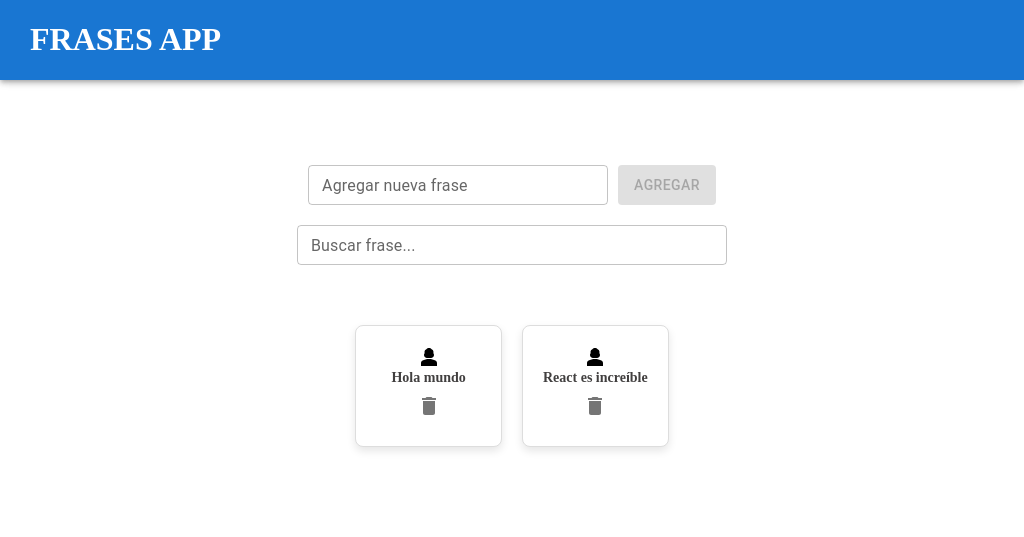
Test: Phrases Component › debería mostrar un mensaje de error si la frase tiene menos de dos palabras
In the field labelled "Agregar nueva frase": (458, 185) [308,165,608,205], type "Hola"
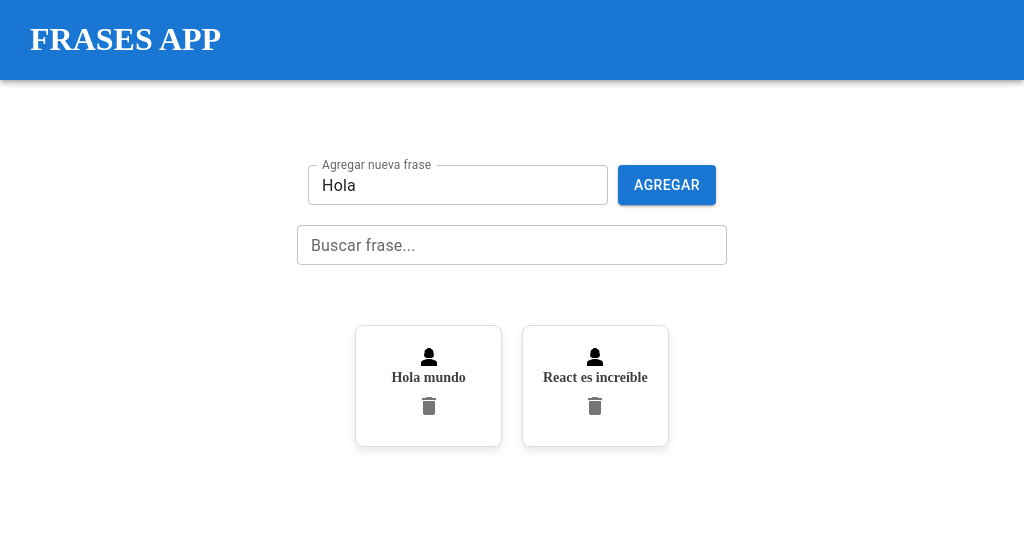
Click the button "Agregar": (667, 185) [618,165,716,205]
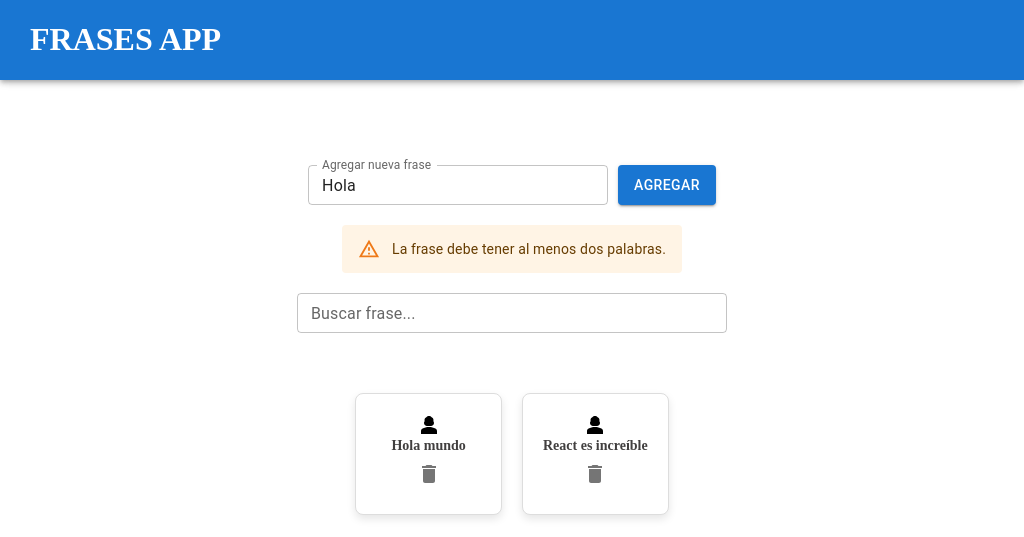
Check: the text "La frase debe tener al menos dos palabras." is shown, box [392,241,666,257]
